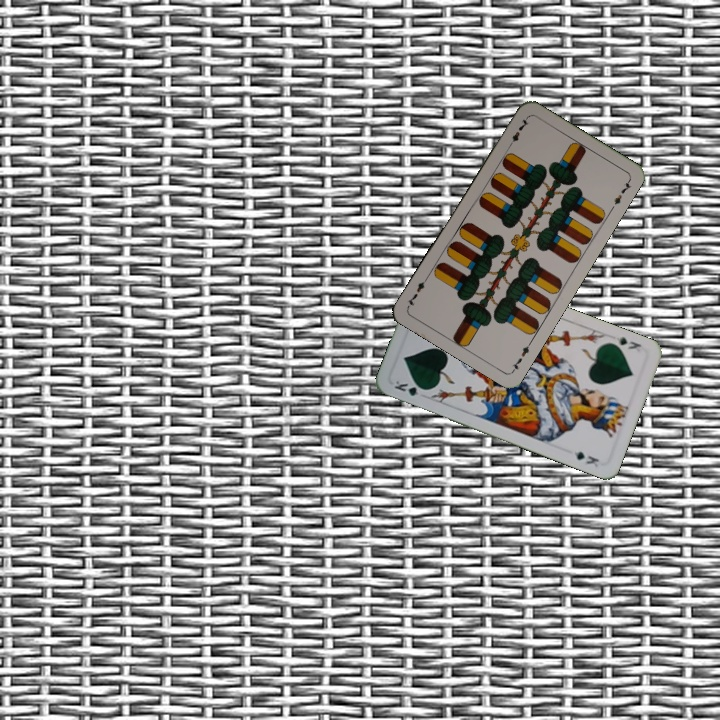E7: (504, 114, 532, 150), (508, 337, 534, 374)
GK: (390, 375, 430, 399), (611, 333, 644, 352)
